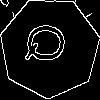Q: (24, 22, 73, 64)
